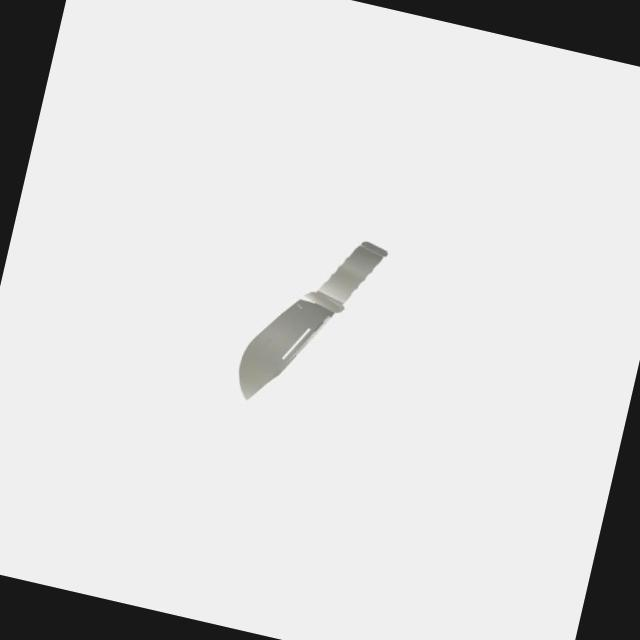knife: (308, 230, 389, 316)
